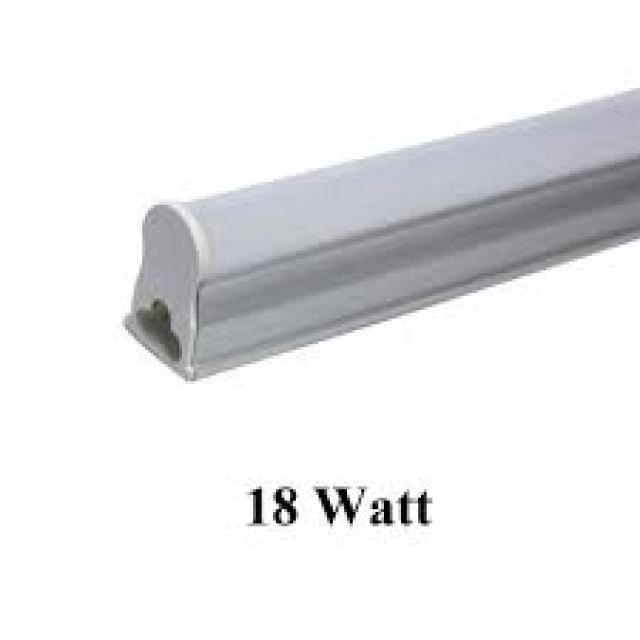tubelight_off: (119, 79, 640, 402)
